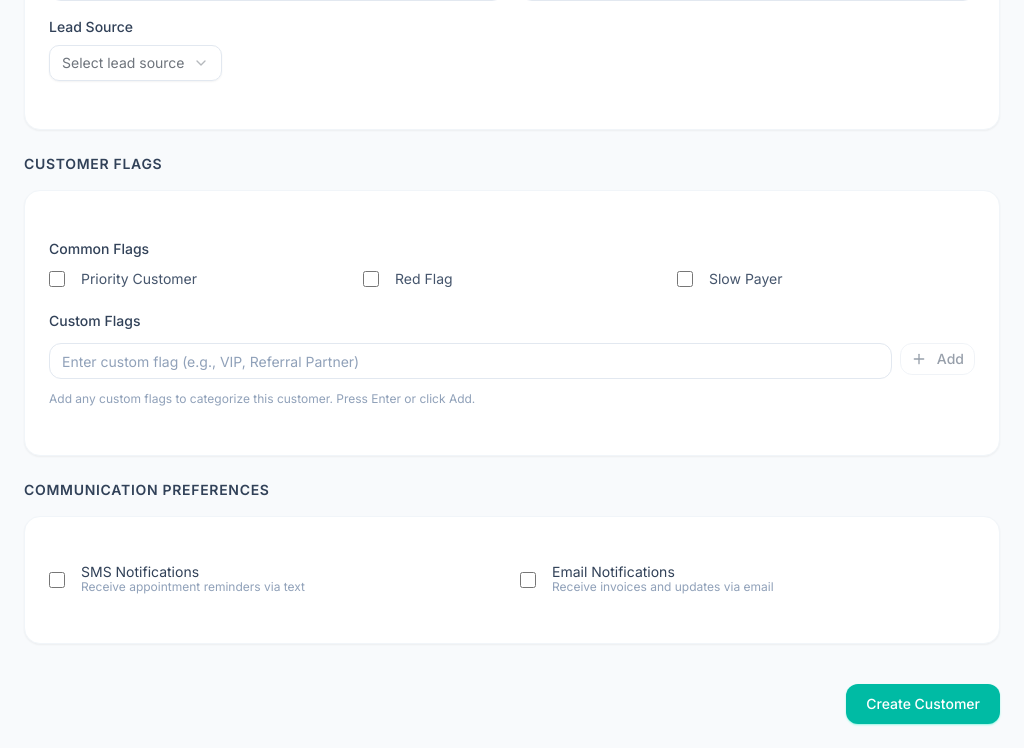
CustomerForm › shows validation errors for required fields
(page scrolled)
Click the button with test id "submit-btn": {"x": 923, "y": 704} [846, 684, 1000, 724]
(page scrolled)
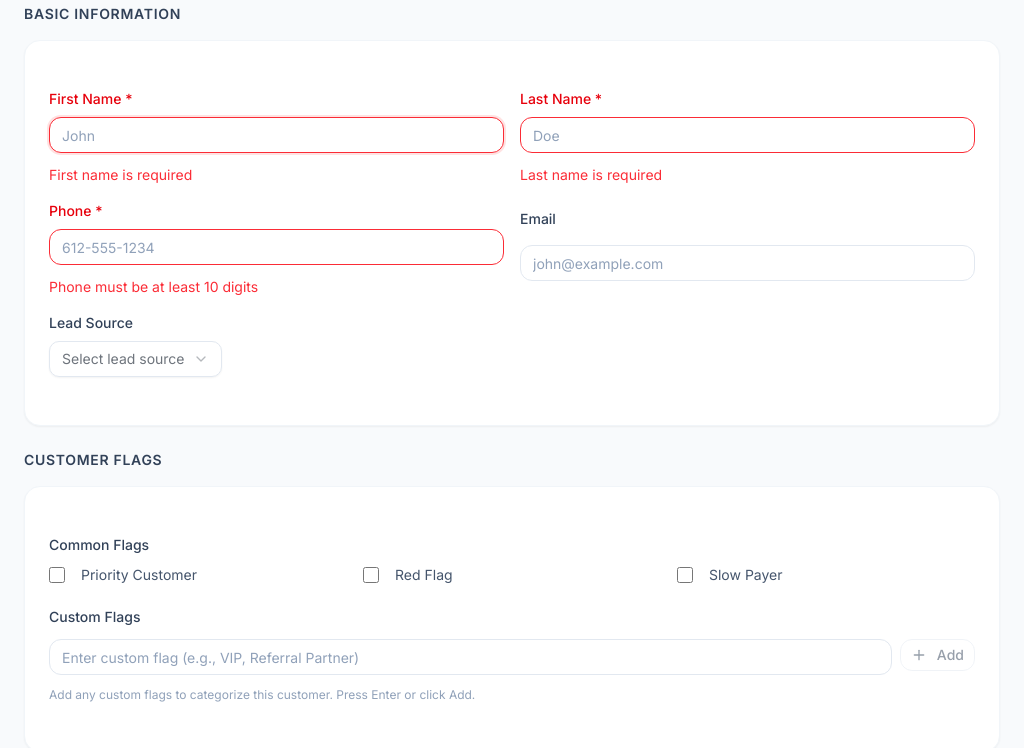
Check: the text "First name is required" is shown, box [49, 166, 192, 183]
Check: the text "Last name is required" is shown, box [520, 166, 662, 183]
